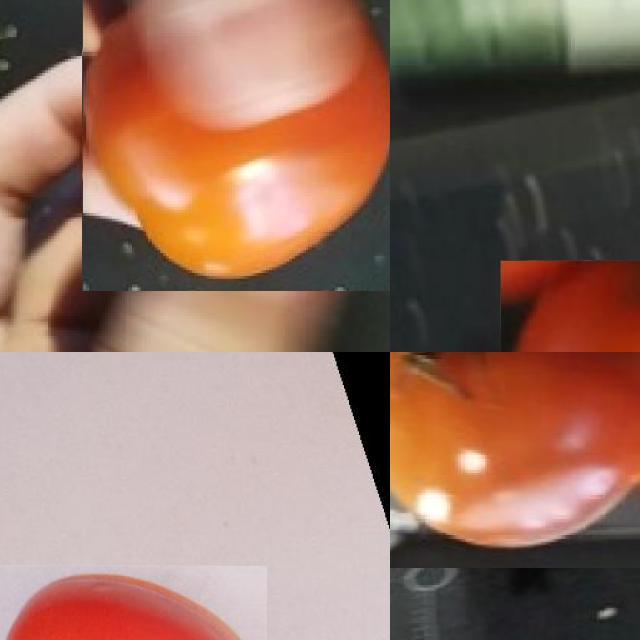Fresh Tomato: (82, 0, 390, 290), (390, 352, 640, 568), (0, 565, 266, 640)
